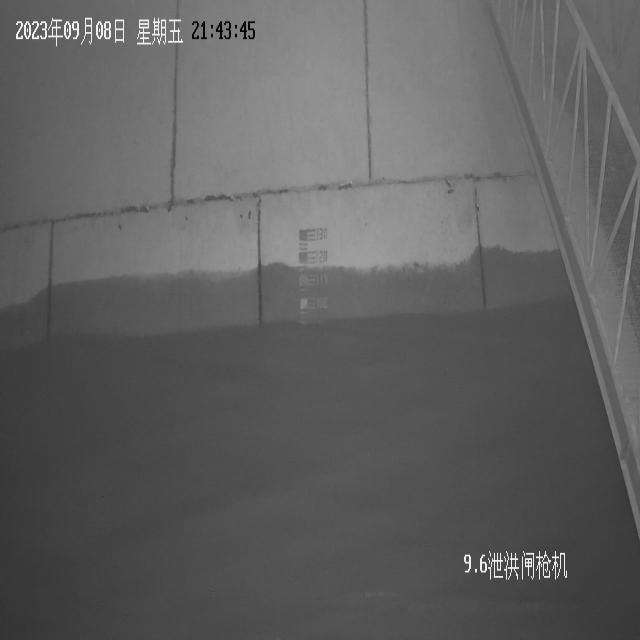ruler: (298, 224, 332, 315)
value: (315, 272, 330, 288), (315, 248, 329, 265), (316, 294, 330, 311), (316, 225, 328, 242)
